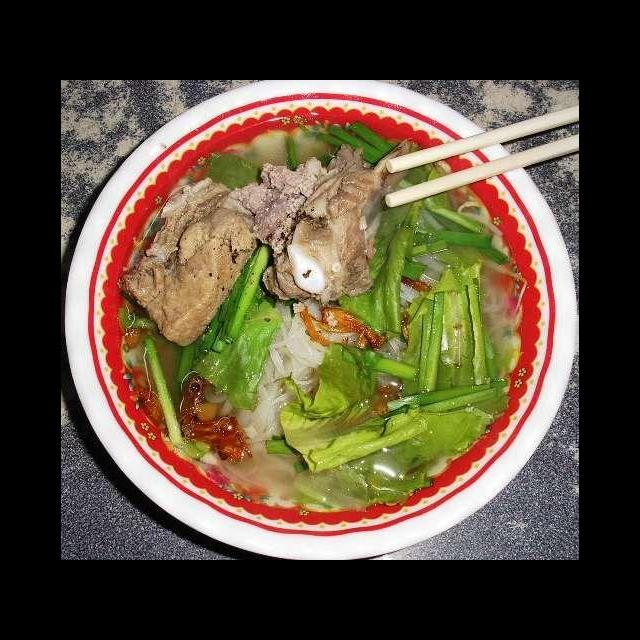banh hu tieu: (222, 285, 362, 470)
hu tieu: (94, 112, 579, 560)
thit heo: (240, 130, 420, 309), (116, 164, 268, 353)
